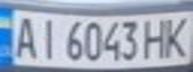0: (81, 18, 106, 63)
3: (118, 17, 142, 61)
4: (103, 18, 124, 62)
6: (60, 17, 84, 62)
A: (9, 12, 39, 60)
H: (139, 15, 172, 60)
I: (33, 15, 60, 61)
K: (160, 12, 193, 60)
